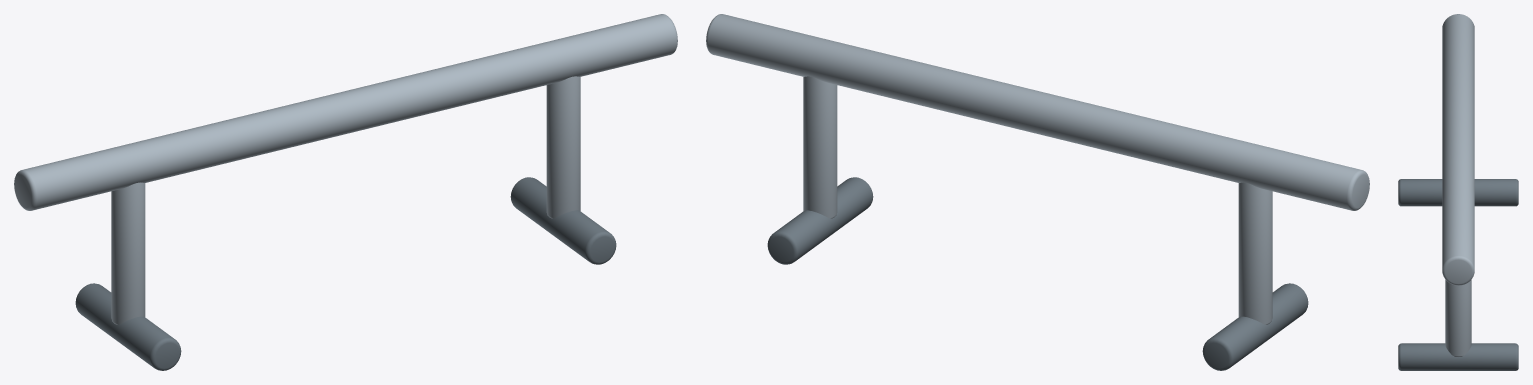
File: rail.glb
3 renders of one model, left to right at view 1: azimuth 30°, elevation 25°; view 2: azimuth 150°, elevation 25°; view 3: azimuth 270°, elevation 25°, orthographic. The views are drawn at different scales.
Visible parts, largest first — view 1: rail_rail_steel, rail_rail_feet; view 2: rail_rail_steel, rail_rail_feet; view 3: rail_rail_steel, rail_rail_feet.
Boxes of the visible parts, x1,y1,x2,y2 form: rail_rail_steel: (14, 14, 677, 324); rail_rail_feet: (75, 177, 616, 370); rail_rail_steel: (706, 14, 1369, 324); rail_rail_feet: (767, 177, 1308, 370); rail_rail_steel: (1442, 14, 1474, 356); rail_rail_feet: (1398, 179, 1518, 370).
Bounding box in the file's own units: 4.6 × 1.34 × 0.96.
